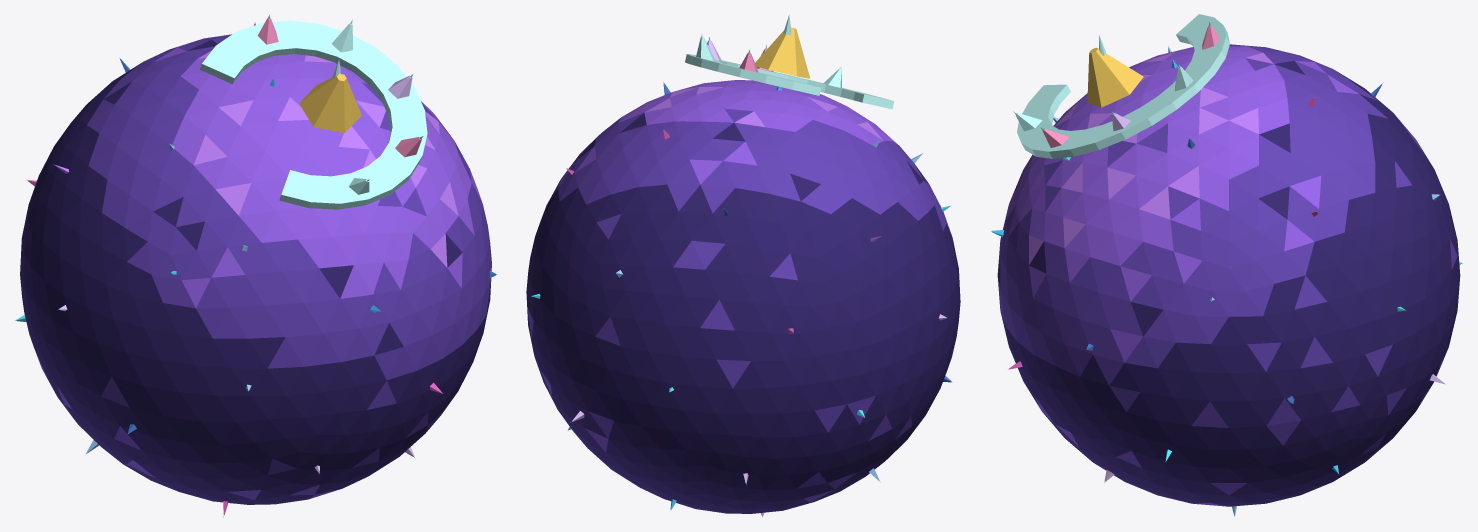
File: Crystal_05.fbx
3 renders of one model, left to right at view 1: azimuth 30°, elevation 25°; view 2: azimuth 150°, elevation 25°; view 3: azimuth 270°, elevation 25°, orthographic. The views are drawn at different scales.
Parts seen in each view (by area): view 1: Crystal_05; view 2: Crystal_05; view 3: Crystal_05.
Boxes of the visible parts, x1,y1,x2,y2 form: Crystal_05: (14, 14, 497, 517); Crystal_05: (526, 15, 960, 517); Crystal_05: (990, 14, 1463, 516).
Bounding box in the file's own units: 6.08 × 6.7 × 6.16.
1 material, 1 textured.
